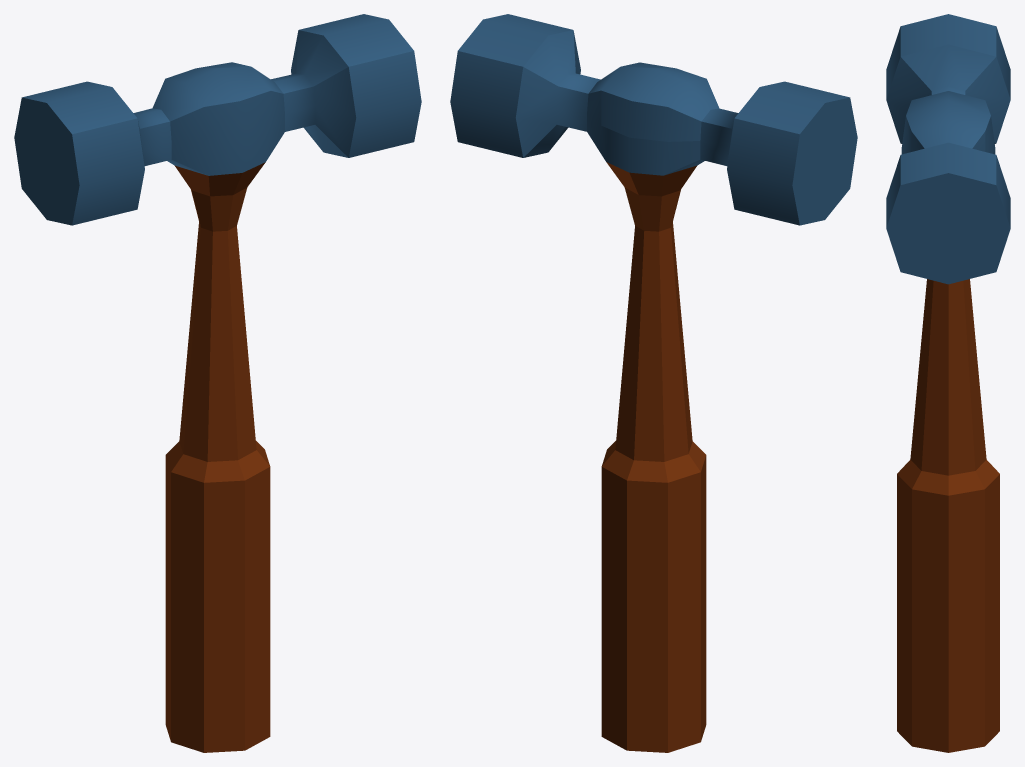
Rendered from new_hammer_texture.obj.
3 views of the same model, side by side, from view 1: azimuth 30°, elevation 25°; view 2: azimuth 150°, elevation 25°; view 3: azimuth 270°, elevation 25° (orthographic). The views are drawn at different scales.
Visible parts, largest first — view 1: hammer; view 2: hammer; view 3: hammer.
Part boxes in pixels (left/top/right/bottom): hammer: left=14, top=14, right=421, bottom=752; hammer: left=450, top=14, right=857, bottom=752; hammer: left=886, top=14, right=1010, bottom=752.
Size of the model in its own units: 7.29 by 13.64 by 2.41.
